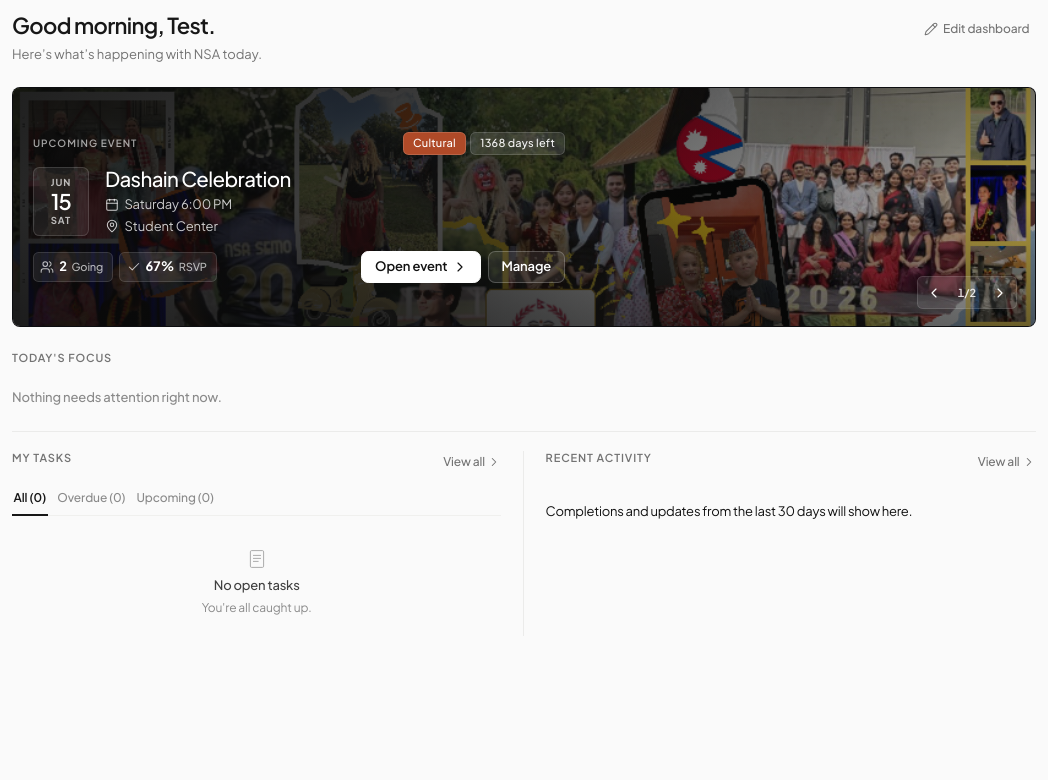
Test: HomePage › cycles featured upcoming events with carousel controls
Expected: the heading "Dashain Celebration" is shown, [105, 166, 291, 192]
Click the button named "Next upcoming event" at (1000, 293), box [987, 280, 1013, 306]
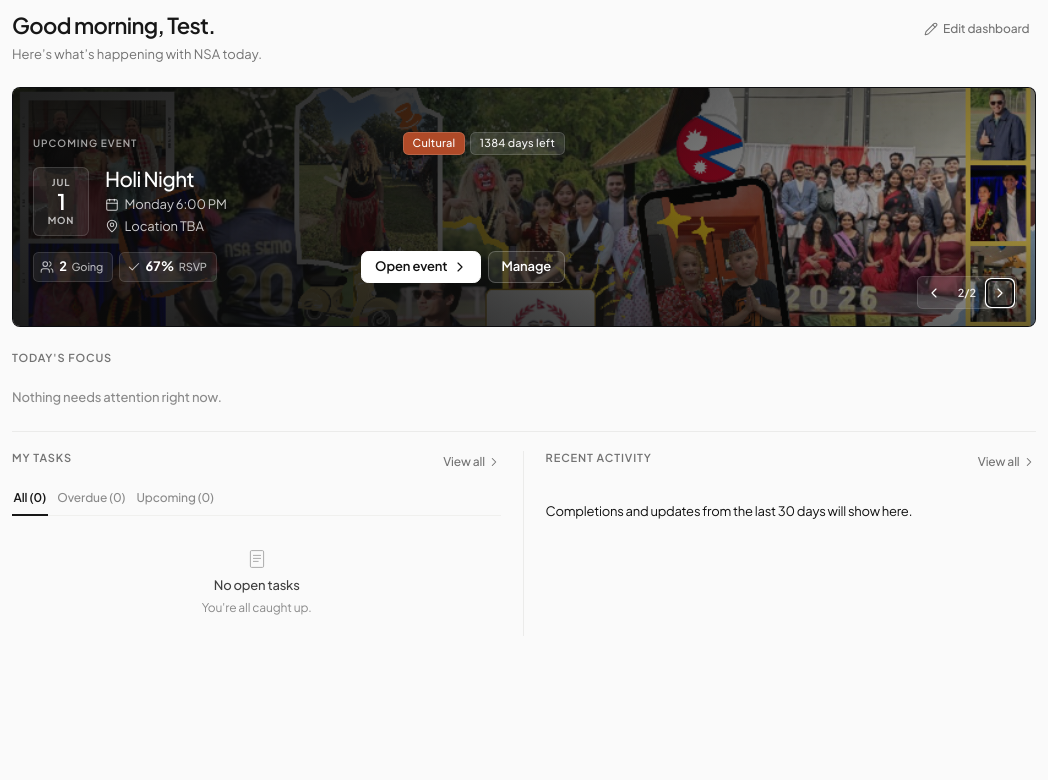
Expected: the heading "Holi Night" is shown, [105, 166, 194, 192]
